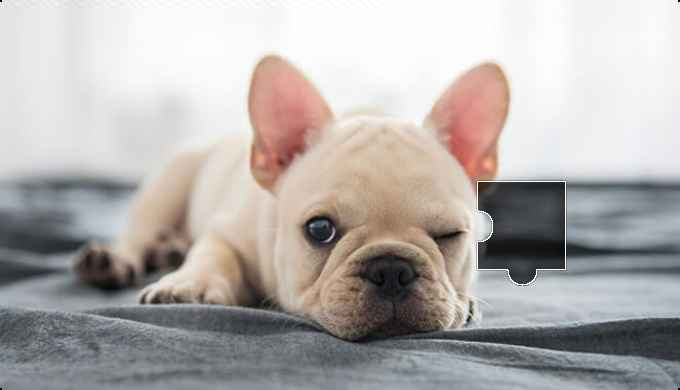gap: (476, 180, 567, 284)
